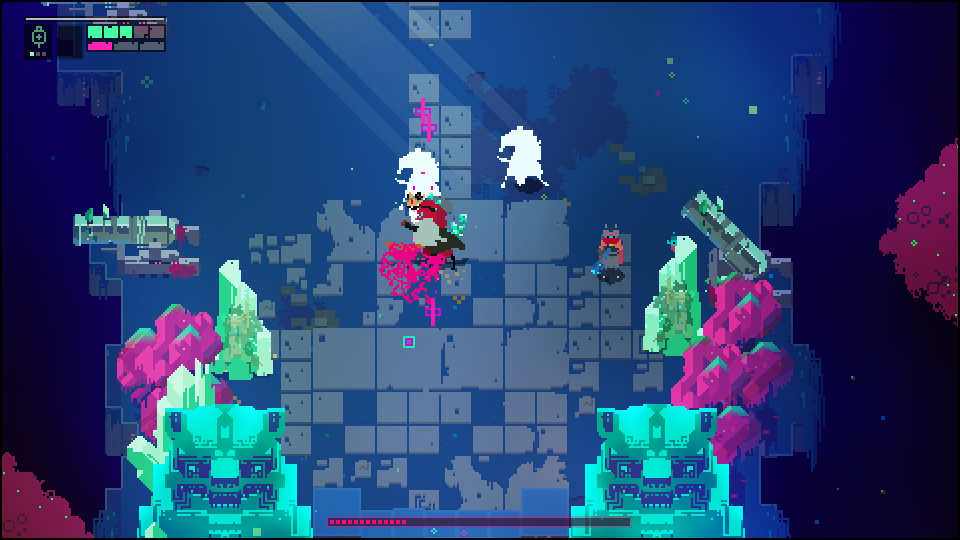hanged_man: (392, 191, 466, 273)
player: (592, 223, 625, 282)
